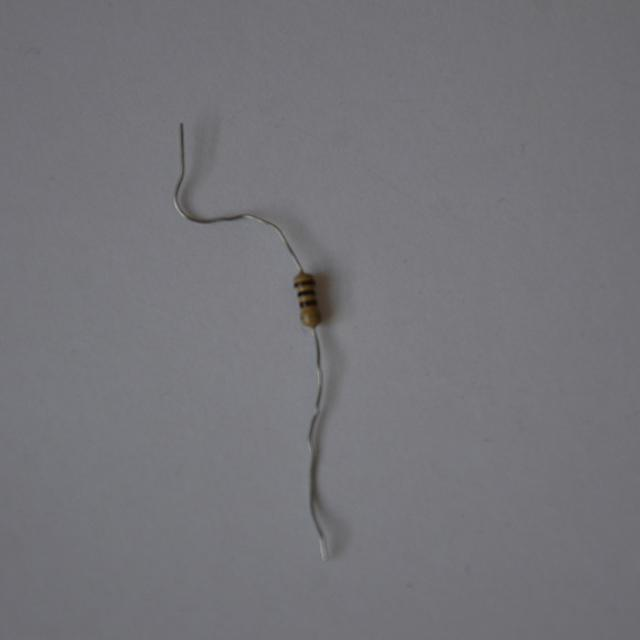Resistor Carbon-Film: (290, 270, 329, 326)
